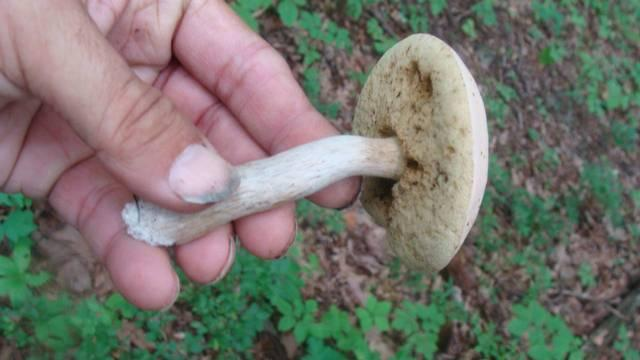Edible Mushroom: (119, 31, 490, 274)
